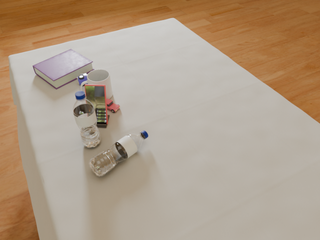book: (33, 49, 94, 89)
bottle: (89, 131, 148, 176), (73, 91, 101, 148)
cup: (81, 69, 112, 99)
phone: (84, 84, 108, 124)
toy_car: (107, 99, 120, 113), (77, 74, 88, 86)
